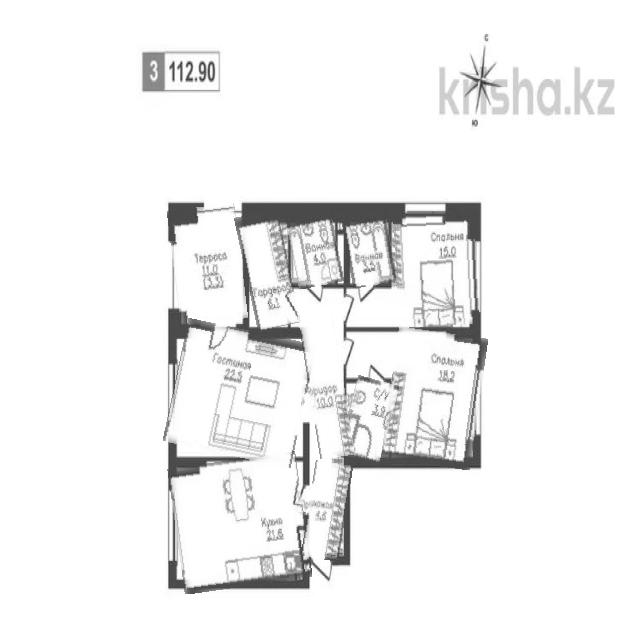balcony: (171, 205, 245, 325)
bathroom: (341, 377, 394, 465), (289, 213, 341, 288), (344, 214, 395, 286)
hallway: (302, 308, 348, 459), (304, 461, 350, 560)
kitchen: (171, 455, 308, 590)
living_room: (168, 324, 311, 462), (386, 329, 484, 468), (395, 213, 478, 327)
other: (240, 210, 295, 330)
